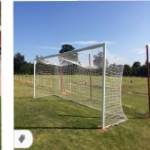goals: (32, 42, 131, 131)
